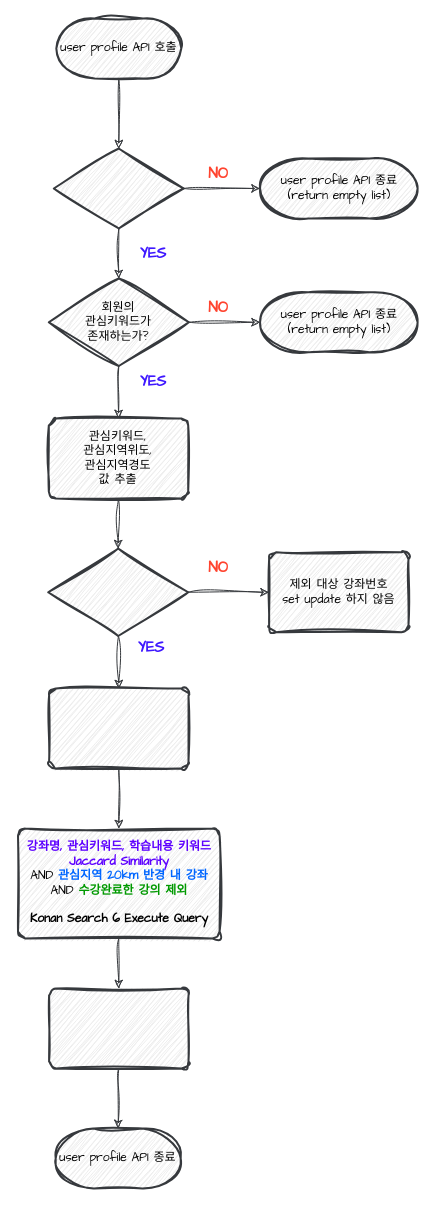
Image size: 436x1206. Some labels were removed from this diagram. Here are the shapes that lost their labels. From the top down, the centre of each, then its label:
At point (118, 188): "존재하는 회원 인가?".
At point (118, 591): "회원의 수강완료한 강의가 존재하는가?".
At point (118, 728): "제외 대상 강좌번호 set update".
At point (118, 1028): "추천 강좌번호 최대 12개 List 취합 후 Return Result".
